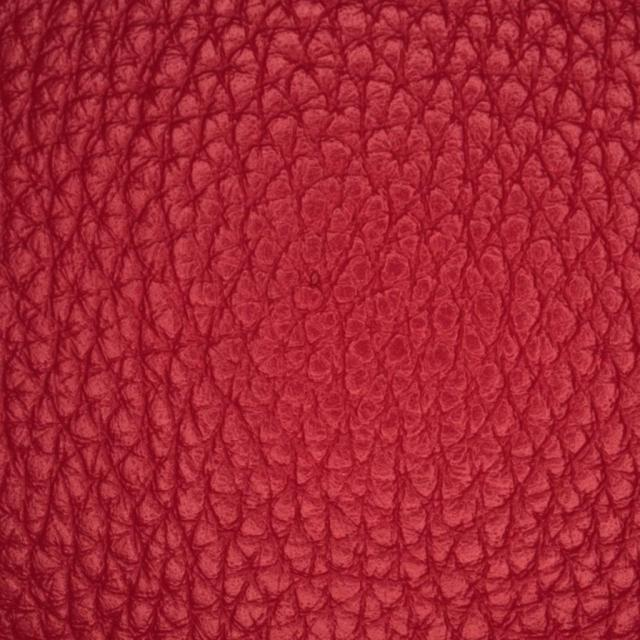Bacterial Injury: (262, 232, 383, 324)
